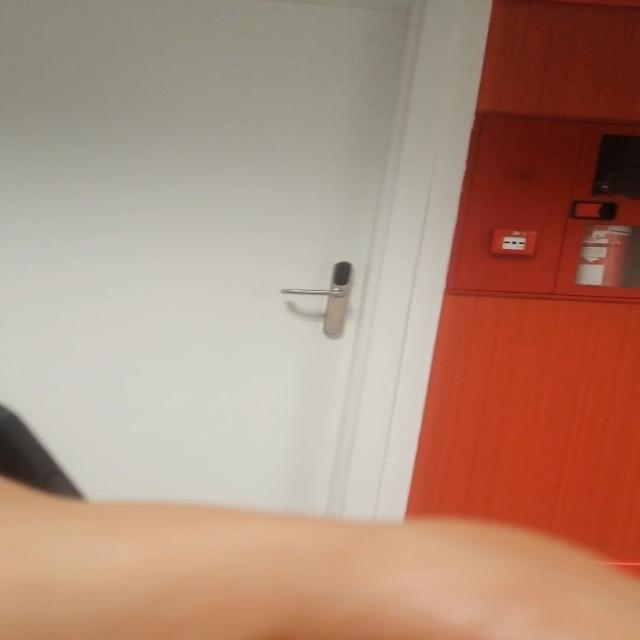door_handle: (276, 287, 355, 300)
